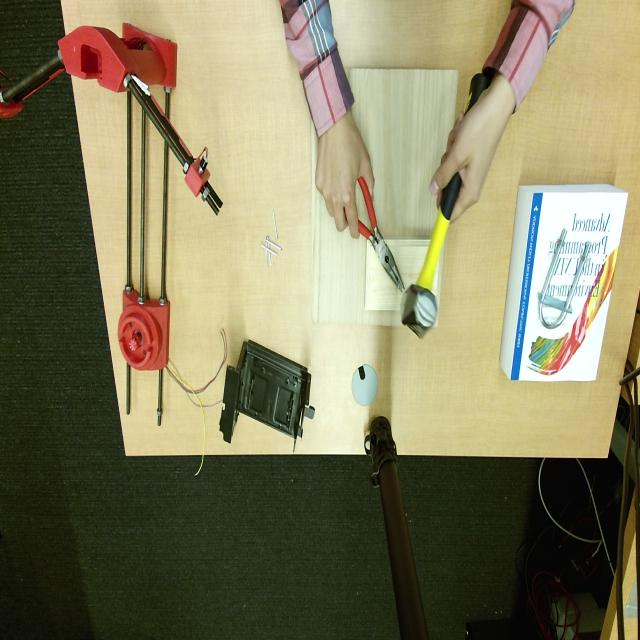hammer: (401, 173, 461, 338)
pliers: (358, 178, 405, 291)
